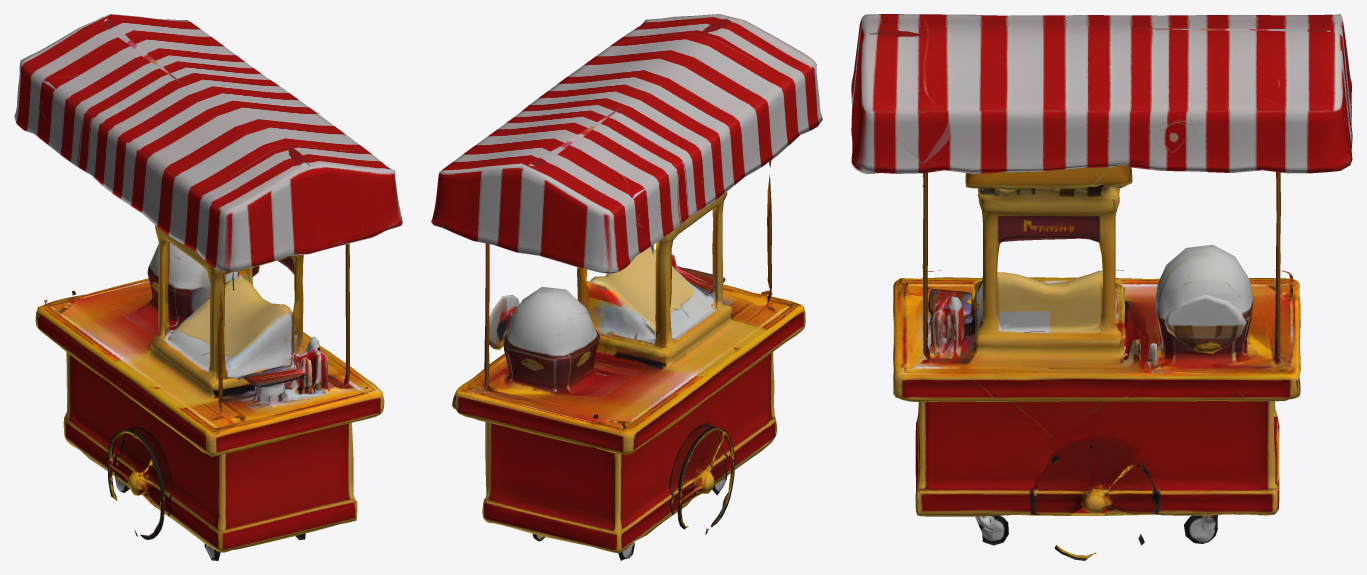
File: pal.obj
3 views of the same model, side by side, from view 1: azimuth 30°, elevation 25°; view 2: azimuth 150°, elevation 25°; view 3: azimuth 270°, elevation 25° (orthographic). The views are drawn at different scales.
Parts seen in each view (by area): view 1: tripo_node_cfc7671c-7306-4a9d-af71-c19857f51c9e; view 2: tripo_node_cfc7671c-7306-4a9d-af71-c19857f51c9e; view 3: tripo_node_cfc7671c-7306-4a9d-af71-c19857f51c9e.
Part boxes in pixels (box(x1,y1,x2,y2)): tripo_node_cfc7671c-7306-4a9d-af71-c19857f51c9e: box(14, 14, 402, 560); tripo_node_cfc7671c-7306-4a9d-af71-c19857f51c9e: box(431, 14, 822, 560); tripo_node_cfc7671c-7306-4a9d-af71-c19857f51c9e: box(851, 14, 1352, 560).
Size of the model in its own units: 0.4538 by 0.9941 by 0.9216.
1 material, 1 textured.
